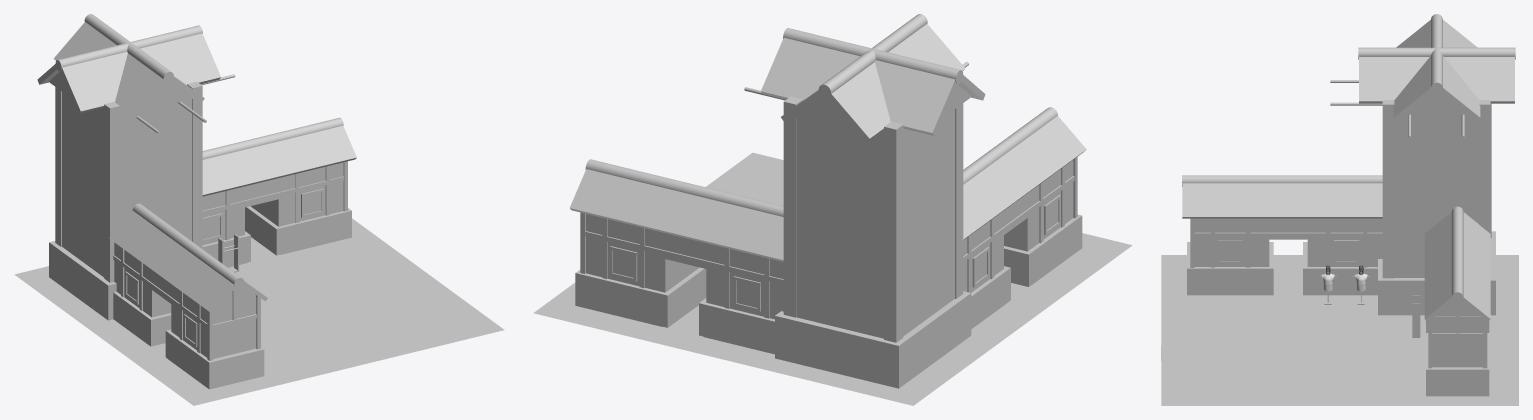
File: barracksH11.fbx
3 renders of one model, left to right at view 1: azimuth 30°, elevation 25°; view 2: azimuth 150°, elevation 25°; view 3: azimuth 270°, elevation 25°, orthographic. The views are drawn at different scales.
Parts seen in each view (by area): view 1: Piedra, FloorGrass, TejadoRojo, PalosMadera, FloorStone, TejadoMadera, Flag2, Ventanas; view 2: Piedra, TejadoRojo, FloorGrass, PalosMadera, TejadoMadera, Ventanas, FloorStone; view 3: Piedra, FloorGrass, TejadoRojo, FloorStone, PalosMadera, TejadoMadera, Ventanas, Armour, Weapons.
Part boxes in pixels (x1,y1,x2,y2): Piedra: [49, 92, 351, 389]; FloorGrass: [14, 218, 504, 405]; TejadoRojo: [37, 22, 356, 313]; PalosMadera: [55, 74, 347, 360]; FloorStone: [121, 237, 450, 365]; TejadoMadera: [48, 14, 343, 305]; Flag2: [130, 102, 180, 201]; Ventanas: [125, 188, 323, 347]; Piedra: [575, 109, 1082, 388]; TejadoRojo: [569, 24, 1086, 261]; FloorGrass: [533, 152, 1132, 405]; PalosMadera: [580, 62, 1077, 342]; TejadoMadera: [585, 14, 1057, 216]; Ventanas: [609, 194, 1060, 311]; FloorStone: [646, 283, 1065, 349]; Piedra: [1187, 114, 1495, 396]; FloorGrass: [1161, 255, 1518, 405]; TejadoRojo: [1182, 20, 1514, 321]; FloorStone: [1161, 255, 1517, 405]; PalosMadera: [1190, 80, 1491, 368]; TejadoMadera: [1182, 14, 1515, 315]; Ventanas: [1217, 240, 1359, 263]; Armour: [1319, 265, 1370, 304]; Weapons: [1412, 295, 1420, 337].
Size of the model in its own units: 1863 by 1393 by 1863.
